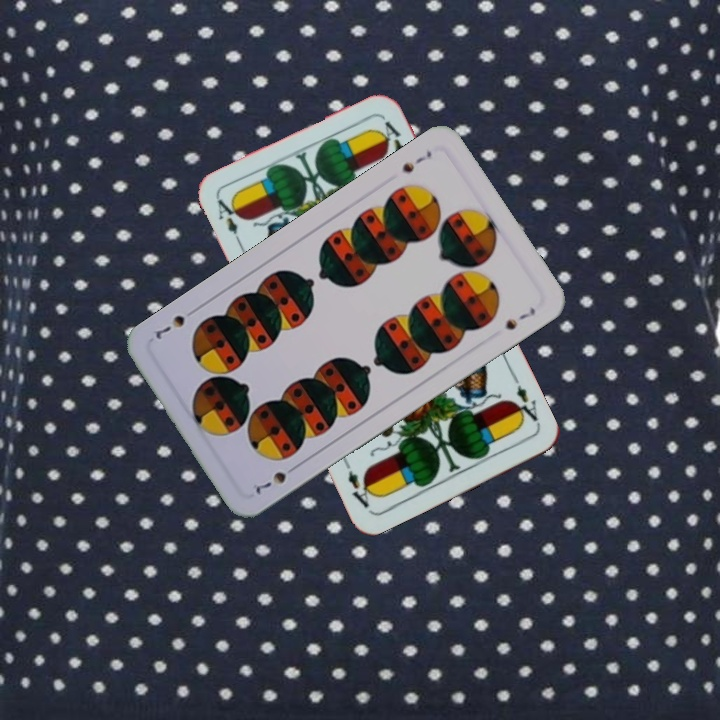EA: (507, 373, 543, 429), (213, 195, 245, 250)
S7: (251, 460, 301, 496), (398, 146, 435, 176)
